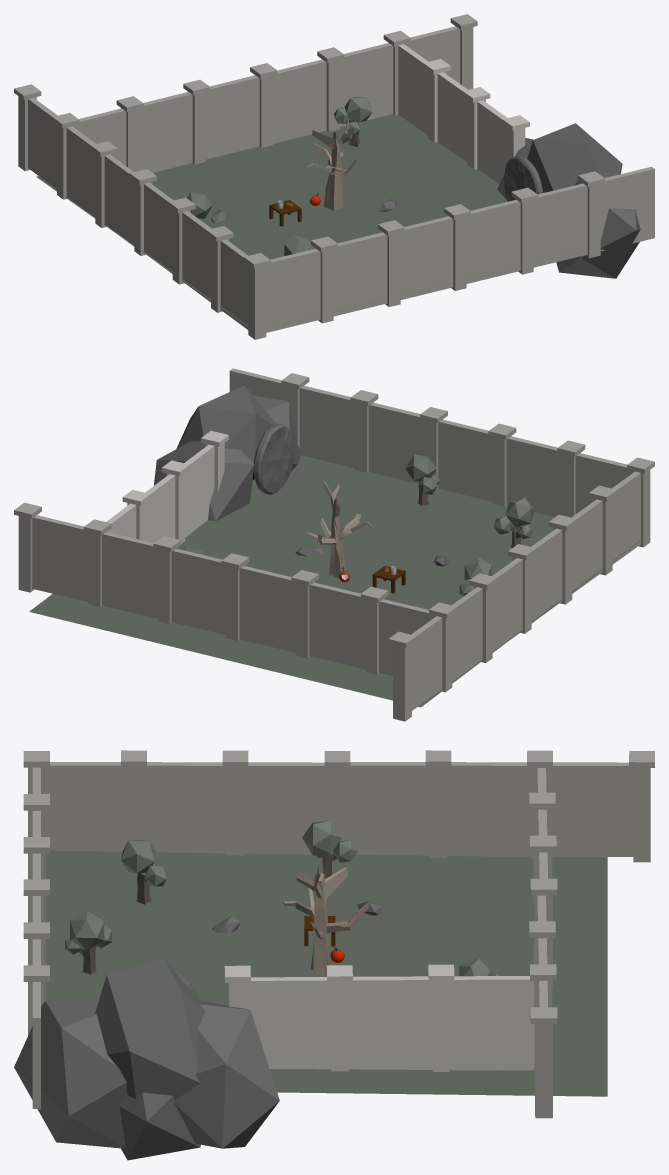
The model's file is dead_garden_env.fbx.
The picture shows the model from 3 angles, top to bottom: view 1: azimuth 30°, elevation 25°; view 2: azimuth 150°, elevation 25°; view 3: azimuth 270°, elevation 25°; orthographic projection. The views are drawn at different scales.
Parts seen in each view (by area): view 1: garden_wall1, ground1, tomb1, dead_tree1, tomb_stone, env_tree1; view 2: garden_wall1, ground1, tomb1, tomb_stone, dead_tree1, env_tree3, env_tree2, env_tree; view 3: garden_wall1, ground1, tomb1, dead_tree1, env_tree2, env_tree3, env_tree.
Part boxes in pixels (left/top/right/bottom): garden_wall1: left=14, top=14, right=654, bottom=339; ground1: left=36, top=114, right=582, bottom=328; tomb1: left=497, top=123, right=640, bottom=278; dead_tree1: left=306, top=118, right=356, bottom=211; tomb_stone: left=504, top=155, right=543, bottom=201; env_tree1: left=334, top=96, right=372, bottom=147; garden_wall1: left=14, top=368, right=654, bottom=721; ground1: left=29, top=455, right=641, bottom=707; tomb1: left=154, top=385, right=300, bottom=521; tomb_stone: left=253, top=423, right=294, bottom=494; dead_tree1: left=306, top=480, right=373, bottom=577; env_tree3: left=493, top=497, right=534, bottom=547; env_tree2: left=405, top=454, right=440, bottom=505; env_tree: left=459, top=557, right=491, bottom=596; garden_wall1: left=23, top=750, right=654, bottom=1118; ground1: left=45, top=850, right=607, bottom=1096; tomb1: left=14, top=959, right=279, bottom=1160; dead_tree1: left=282, top=866, right=368, bottom=974; env_tree2: left=65, top=911, right=111, bottom=974; env_tree3: left=121, top=839, right=167, bottom=904; env_tree: left=302, top=820, right=357, bottom=878.
Size of the model in its own units: 73.92 by 23.14 by 74.78.
